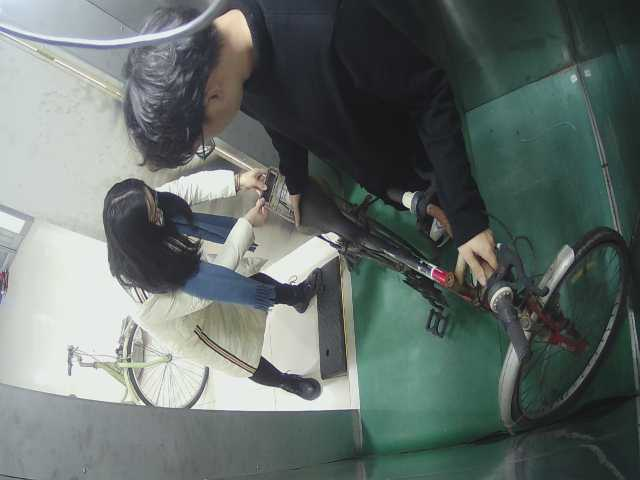bicycle: (261, 166, 628, 429), (61, 309, 219, 414)
person: (115, 1, 518, 282), (97, 174, 347, 404)
